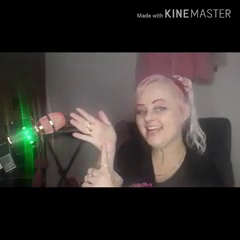T: (68, 103, 122, 186)
